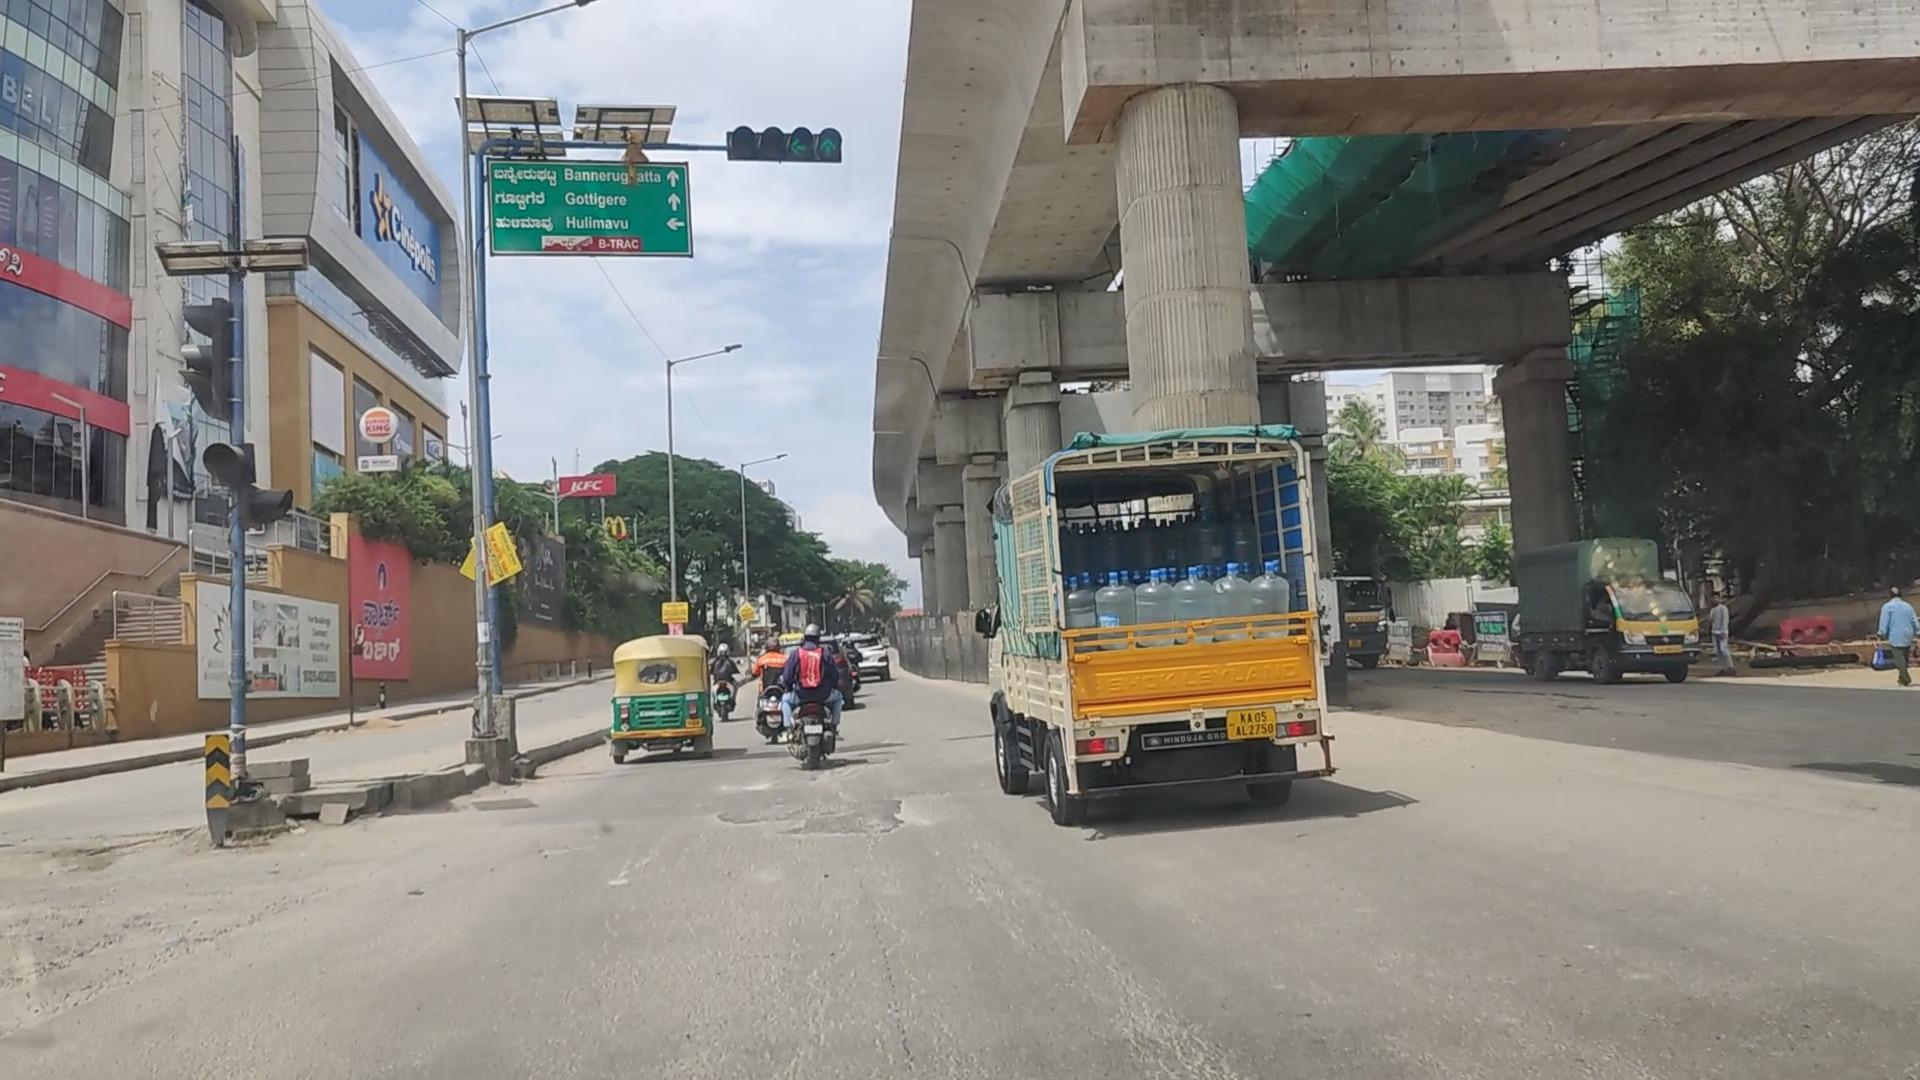HMV: (971, 430, 1320, 810)
LMV: (603, 634, 712, 760), (791, 624, 836, 750)
RoadDamages: (814, 803, 911, 843), (729, 791, 802, 833)
